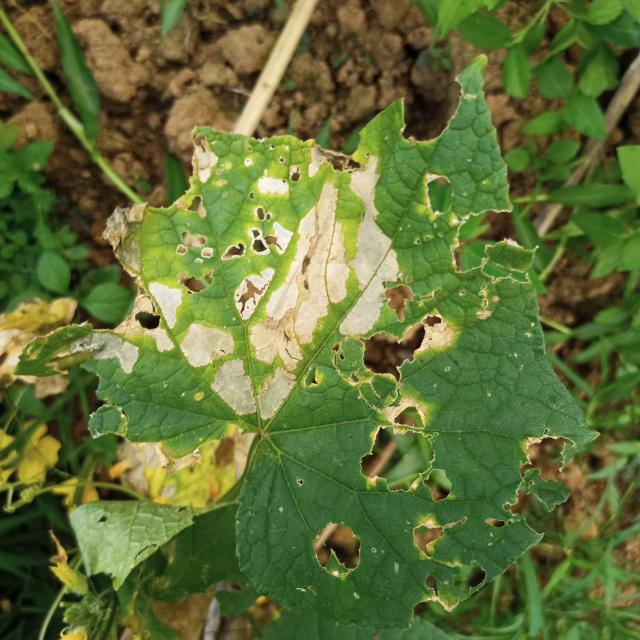disease_cucumber: (118, 136, 508, 435)
